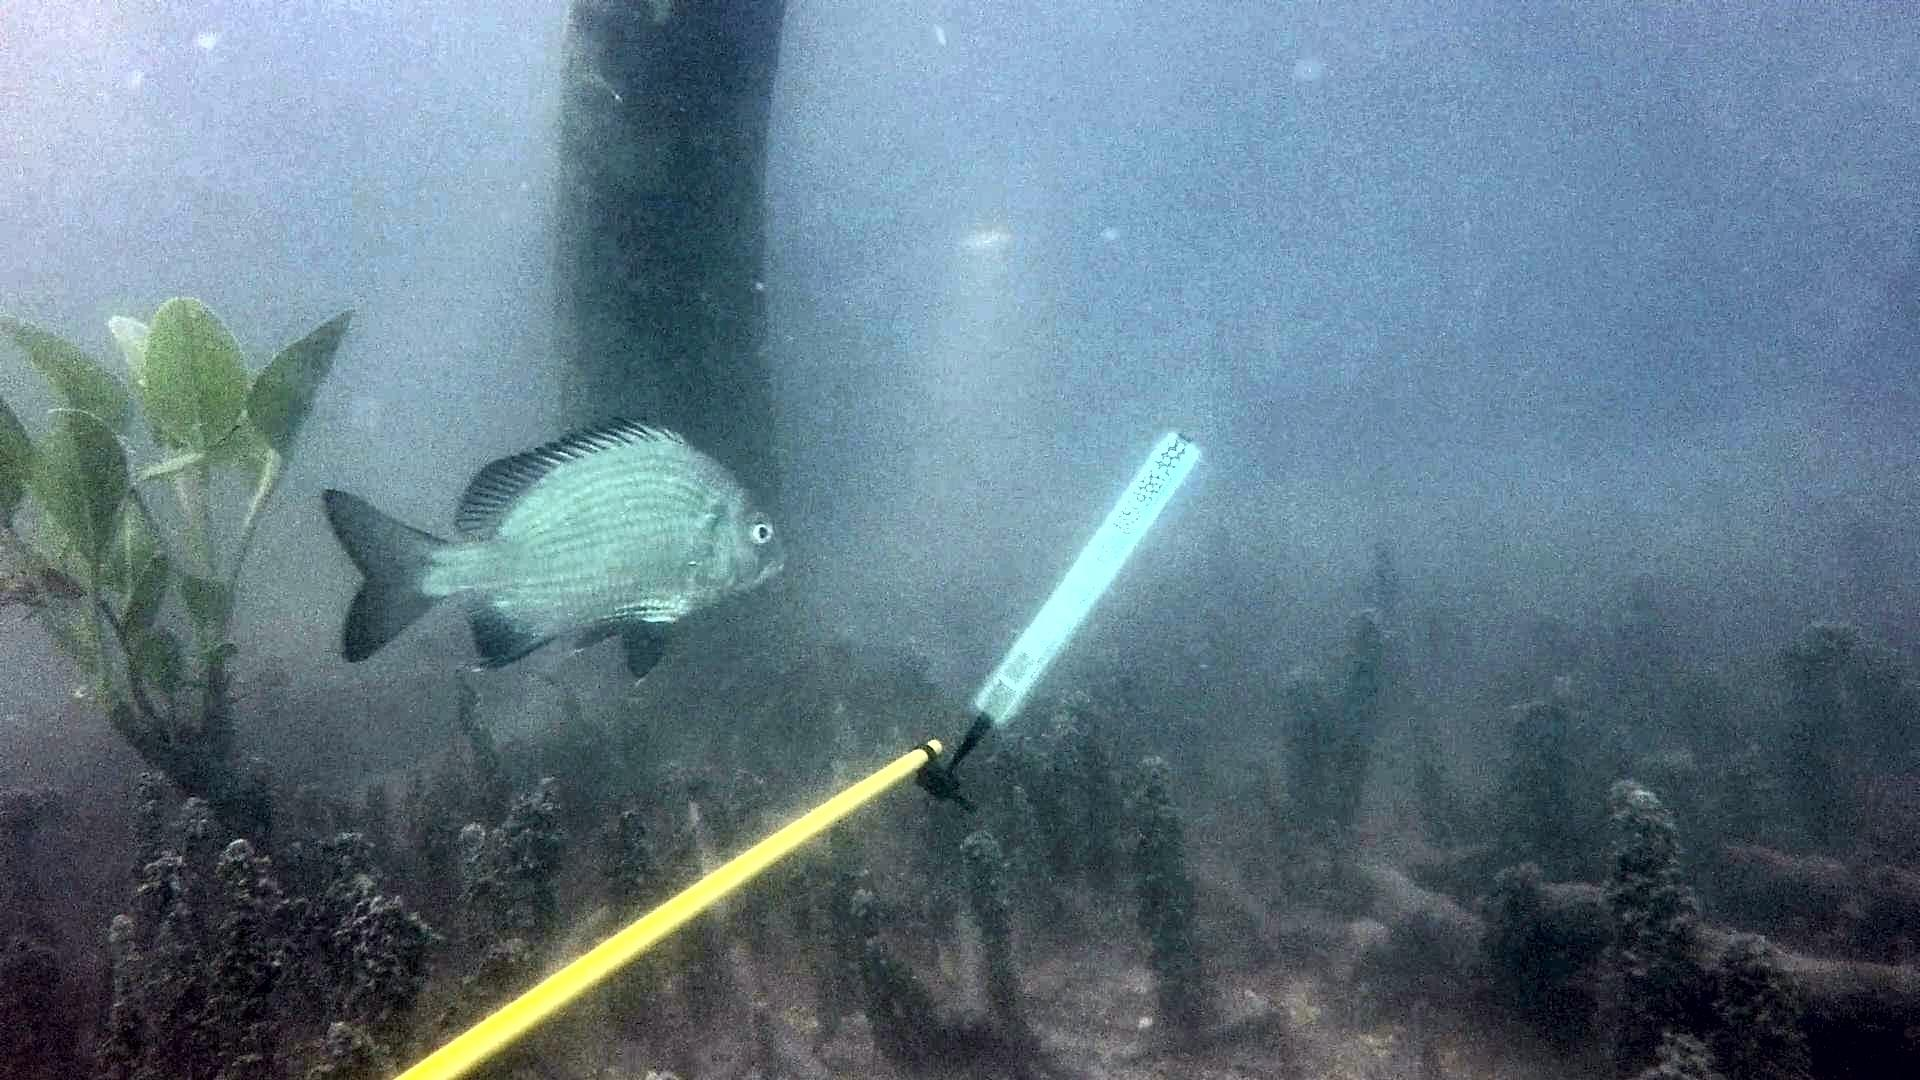acanthopagrus palmaris: (316, 403, 814, 697)
